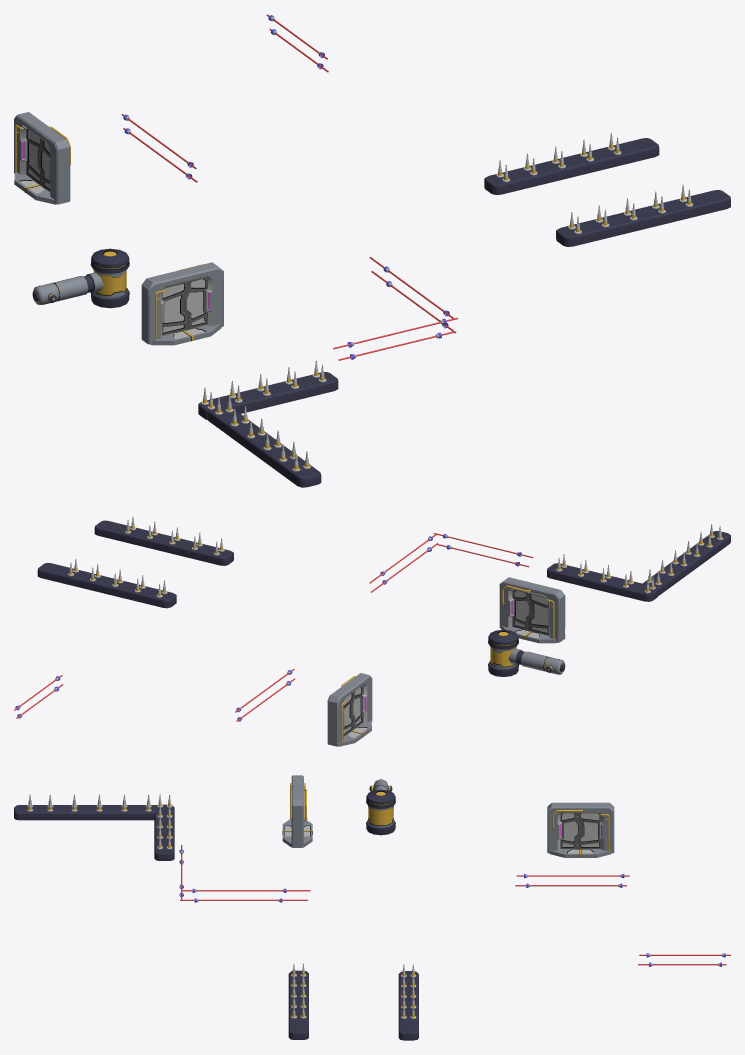
3 views of the same model, one above another, from view 1: azimuth 30°, elevation 25°; view 2: azimuth 150°, elevation 25°; view 3: azimuth 270°, elevation 25° (orthographic). The views are drawn at different scales.
Visible parts, largest first — view 1: Base (×6), pCylinder13, pCylinder14, Right, Left, Base5; view 2: Base (×6), pCylinder13, Left (×2), pCylinder14, Base5 (×2), Right; view 3: Base (×6), pCylinder13, Base5 (×2), Right, Left.
Boxes of the visible parts, left/top/right/bottom form: Base (×6): left=14, top=112, right=730, bottom=487; pCylinder13: left=90, top=248, right=129, bottom=308; pCylinder14: left=32, top=272, right=104, bottom=304; Right: left=162, top=282, right=188, bottom=335; Left: left=184, top=278, right=207, bottom=329; Base5: left=151, top=324, right=221, bottom=345; Base (×6): left=37, top=520, right=730, bottom=746; pCylinder13: left=488, top=629, right=518, bottom=676; Left (×2): left=351, top=589, right=531, bottom=729; pCylinder14: left=508, top=648, right=565, bottom=674; Base5 (×2): left=339, top=626, right=557, bottom=746; Right: left=528, top=593, right=548, bottom=635; Base (×6): left=14, top=775, right=614, bottom=1040; pCylinder13: left=366, top=789, right=395, bottom=835; Base5 (×2): left=282, top=818, right=611, bottom=857; Right: left=577, top=812, right=601, bottom=849; Left: left=560, top=812, right=580, bottom=849.
Size of the model in its own units: 459 by 44.02 by 583.
